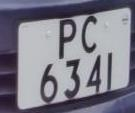1: (103, 49, 116, 95)
3: (61, 58, 85, 101)
4: (83, 53, 105, 96)
6: (34, 58, 62, 106)
C: (78, 12, 101, 56)
P: (55, 16, 82, 60)
